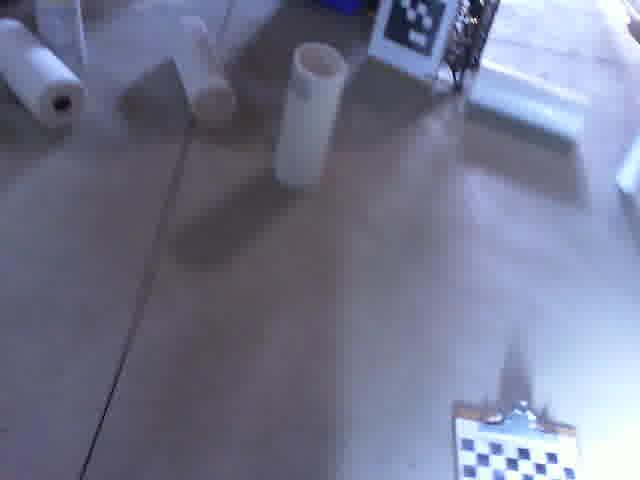coral: (270, 39, 355, 194), (460, 54, 595, 150), (158, 6, 246, 129), (26, 0, 93, 65)
